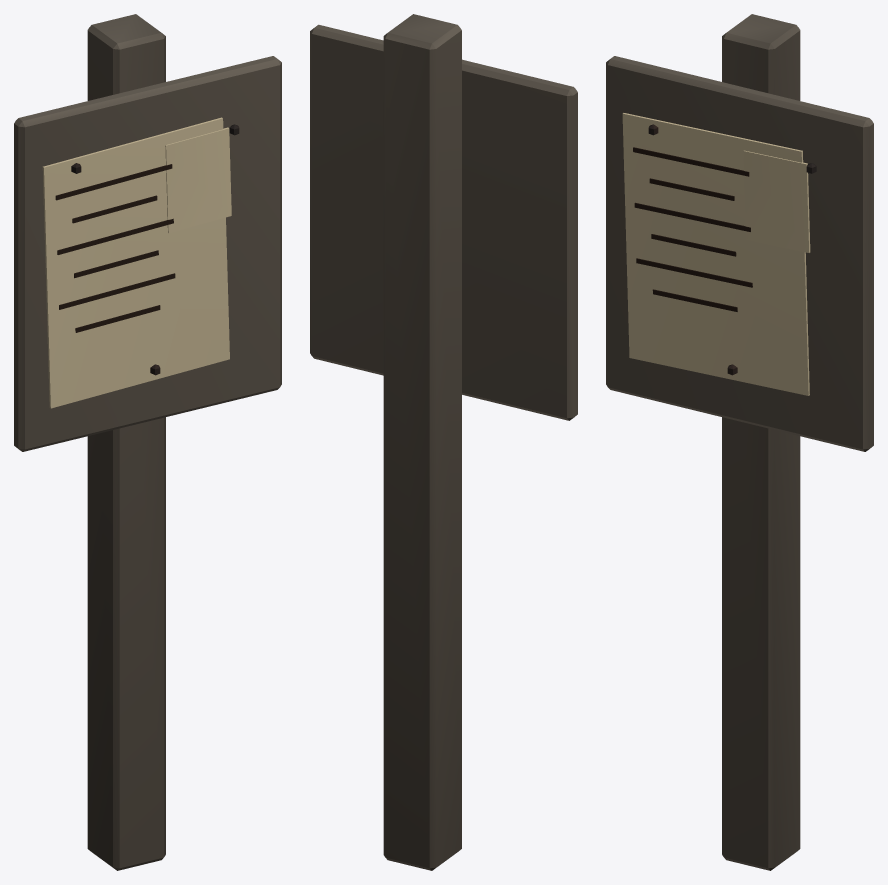
File: clue-ledger-week.glb
The picture shows the model from 3 angles, left to right: view 1: azimuth 30°, elevation 25°; view 2: azimuth 150°, elevation 25°; view 3: azimuth 330°, elevation 25°; orthographic projection.
Visible parts, largest first — view 1: clue-ledger-week-wood, clue-ledger-week-paper, clue-ledger-week-dark; view 2: clue-ledger-week-wood; view 3: clue-ledger-week-wood, clue-ledger-week-paper, clue-ledger-week-dark.
Part boxes in pixels (x1,y1,x2,y2): clue-ledger-week-wood: (14, 14, 281, 870); clue-ledger-week-paper: (42, 117, 231, 408); clue-ledger-week-dark: (55, 164, 175, 332); clue-ledger-week-wood: (310, 14, 577, 870); clue-ledger-week-wood: (606, 14, 873, 870); clue-ledger-week-paper: (622, 113, 810, 395); clue-ledger-week-dark: (633, 147, 752, 311).
Bounding box in the file's own units: 0.5 × 1.5 × 0.152.
